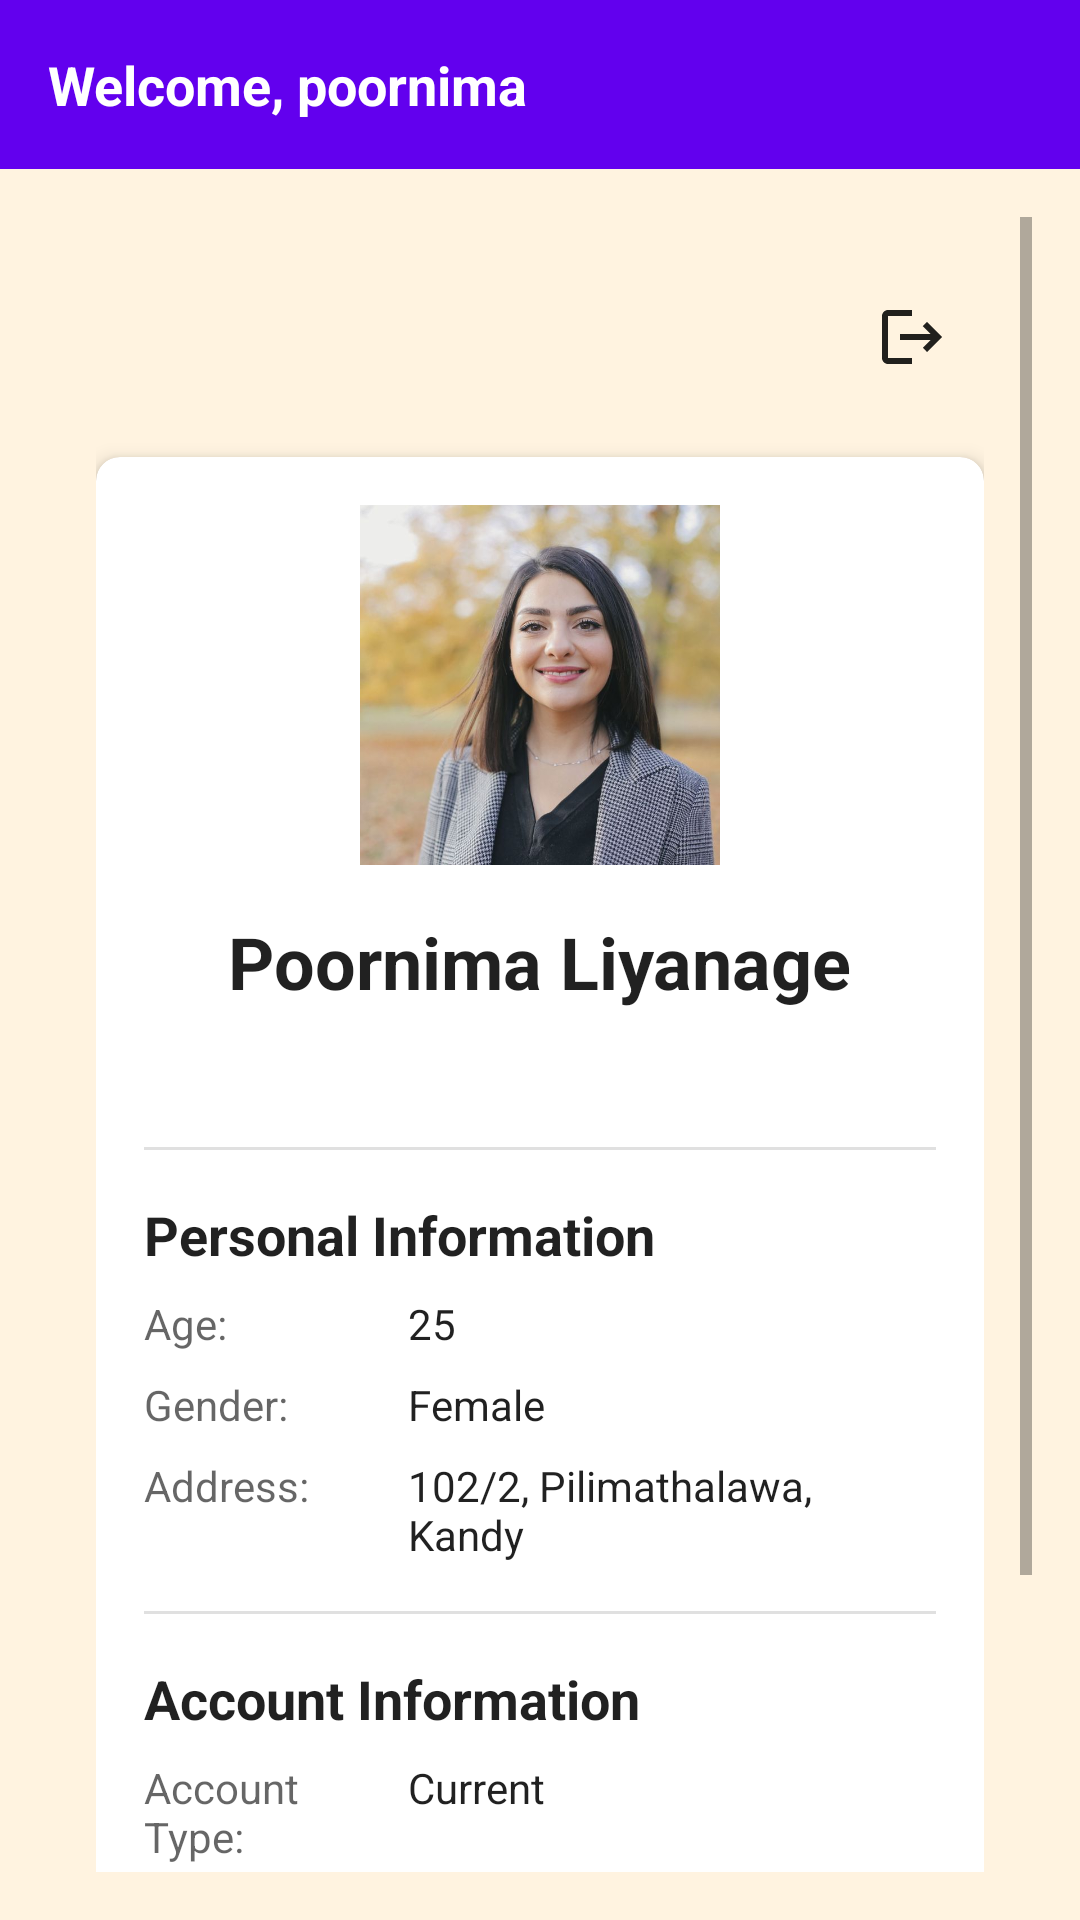

Where to tap for icons on this 1080 × 1920 app screen, as [x,y]:
Your Profile Pic: [540,685]
